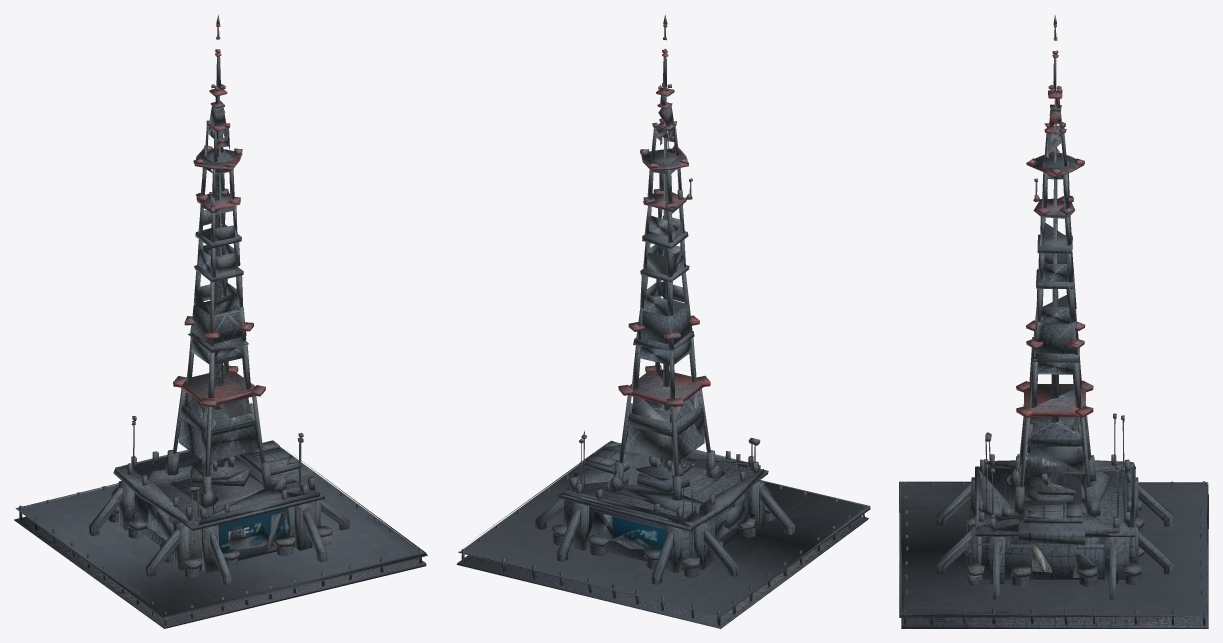
The model's file is radio_tower.glb.
The picture shows the model from 3 angles, left to right: view 1: azimuth 30°, elevation 25°; view 2: azimuth 150°, elevation 25°; view 3: azimuth 270°, elevation 25°; orthographic projection. The views are drawn at different scales.
Bounding box in the file's own units: 0.5214 × 0.997 × 0.5111.
1 material, 1 textured.
